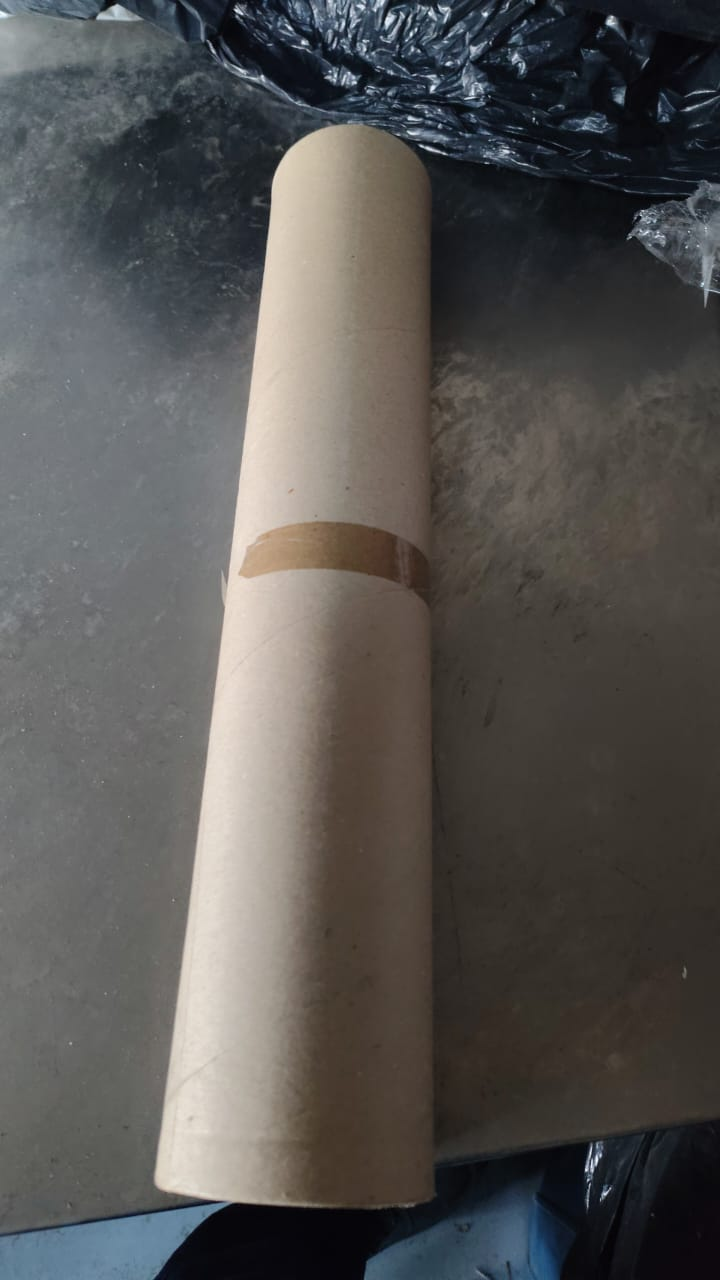Carton: (154, 127, 448, 1209)
